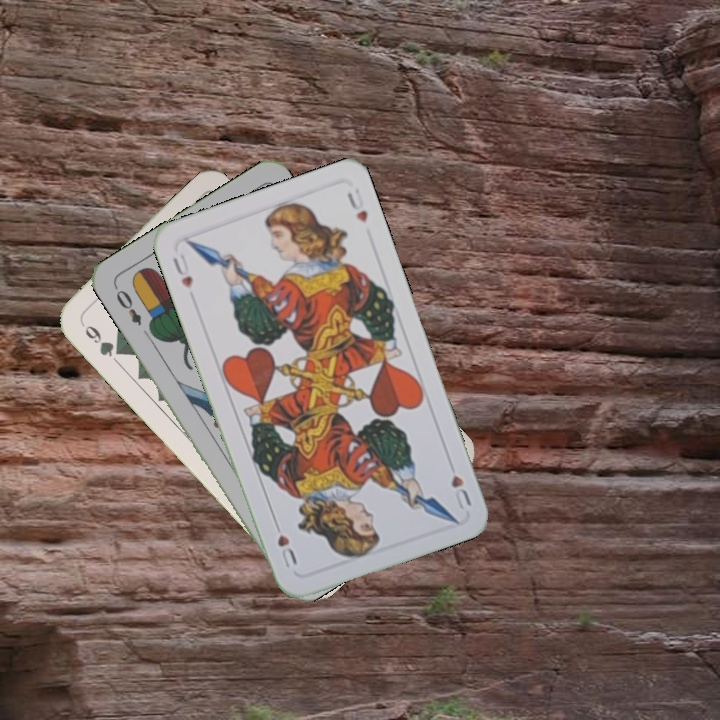EO: (110, 282, 145, 328)
G9: (76, 316, 126, 359)
HU: (446, 470, 474, 512), (168, 250, 195, 291)
